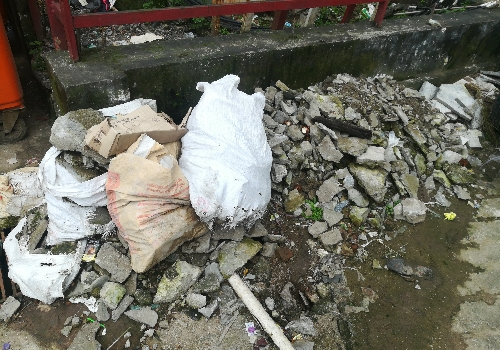trash: (1, 70, 286, 328)
